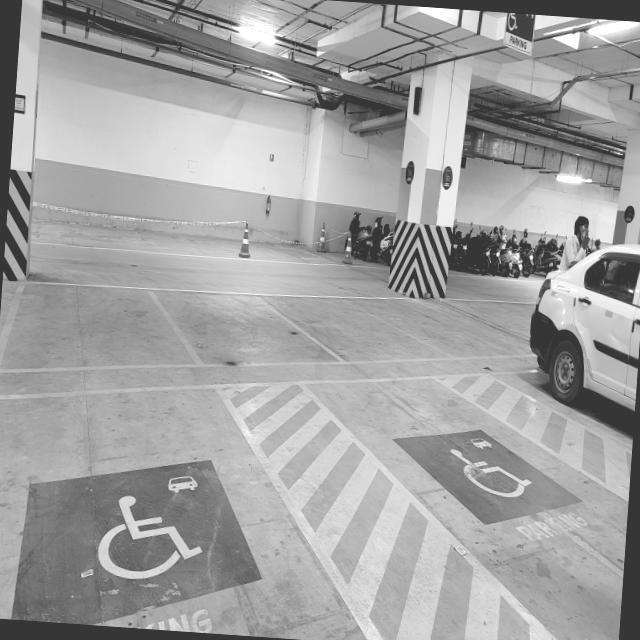space-empty: (141, 271, 361, 372), (10, 276, 209, 384), (252, 268, 464, 367)
